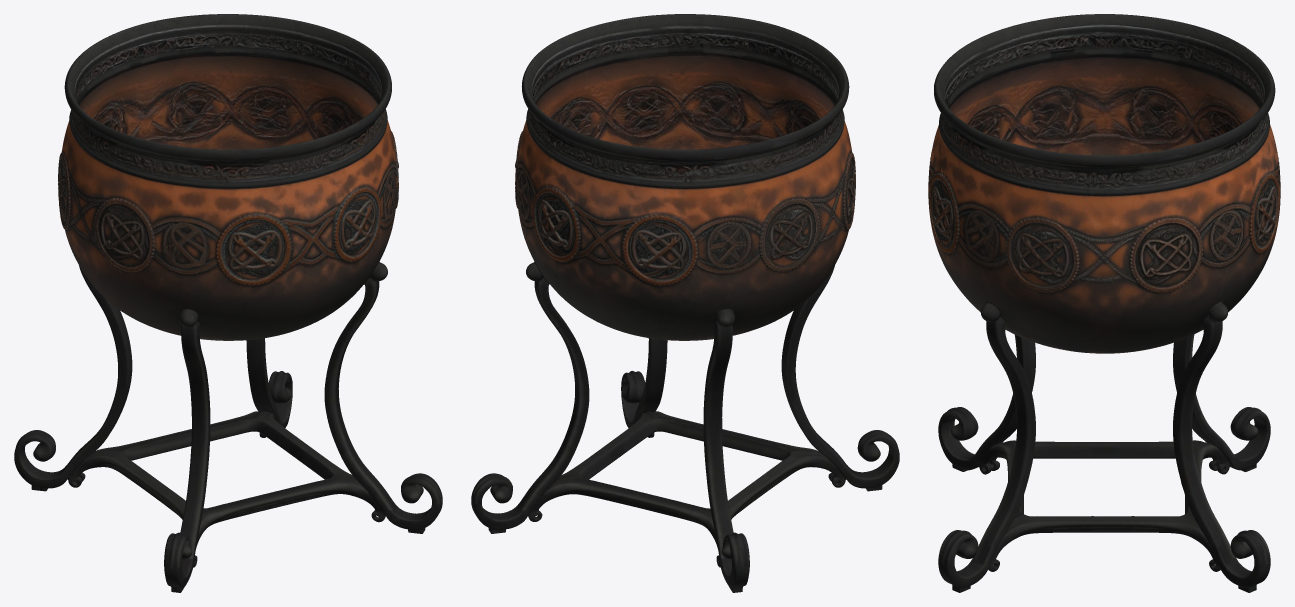
Rendered from hazard_brazier_draco.glb.
3 renders of one model, left to right at view 1: azimuth 30°, elevation 25°; view 2: azimuth 150°, elevation 25°; view 3: azimuth 270°, elevation 25°, orthographic. The views are drawn at different scales.
Bounding box in the file's own units: 1.37 × 1.9 × 1.37.
Materials: 1 (1 with a texture image).
